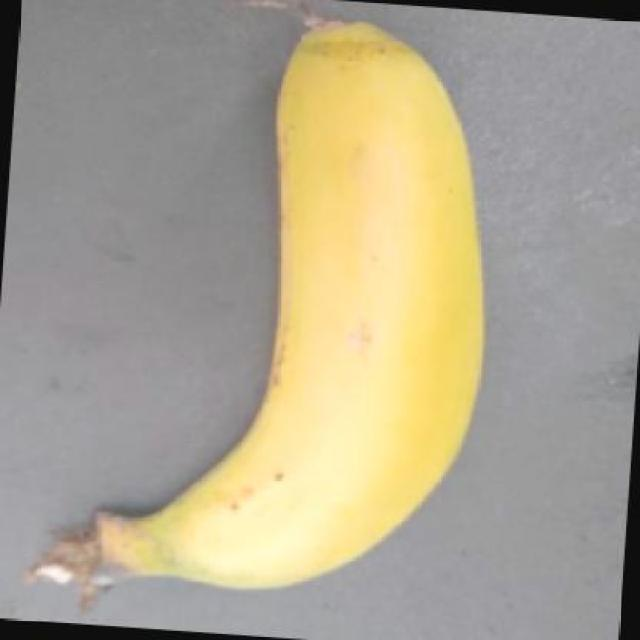Ripe: (36, 0, 496, 617)
